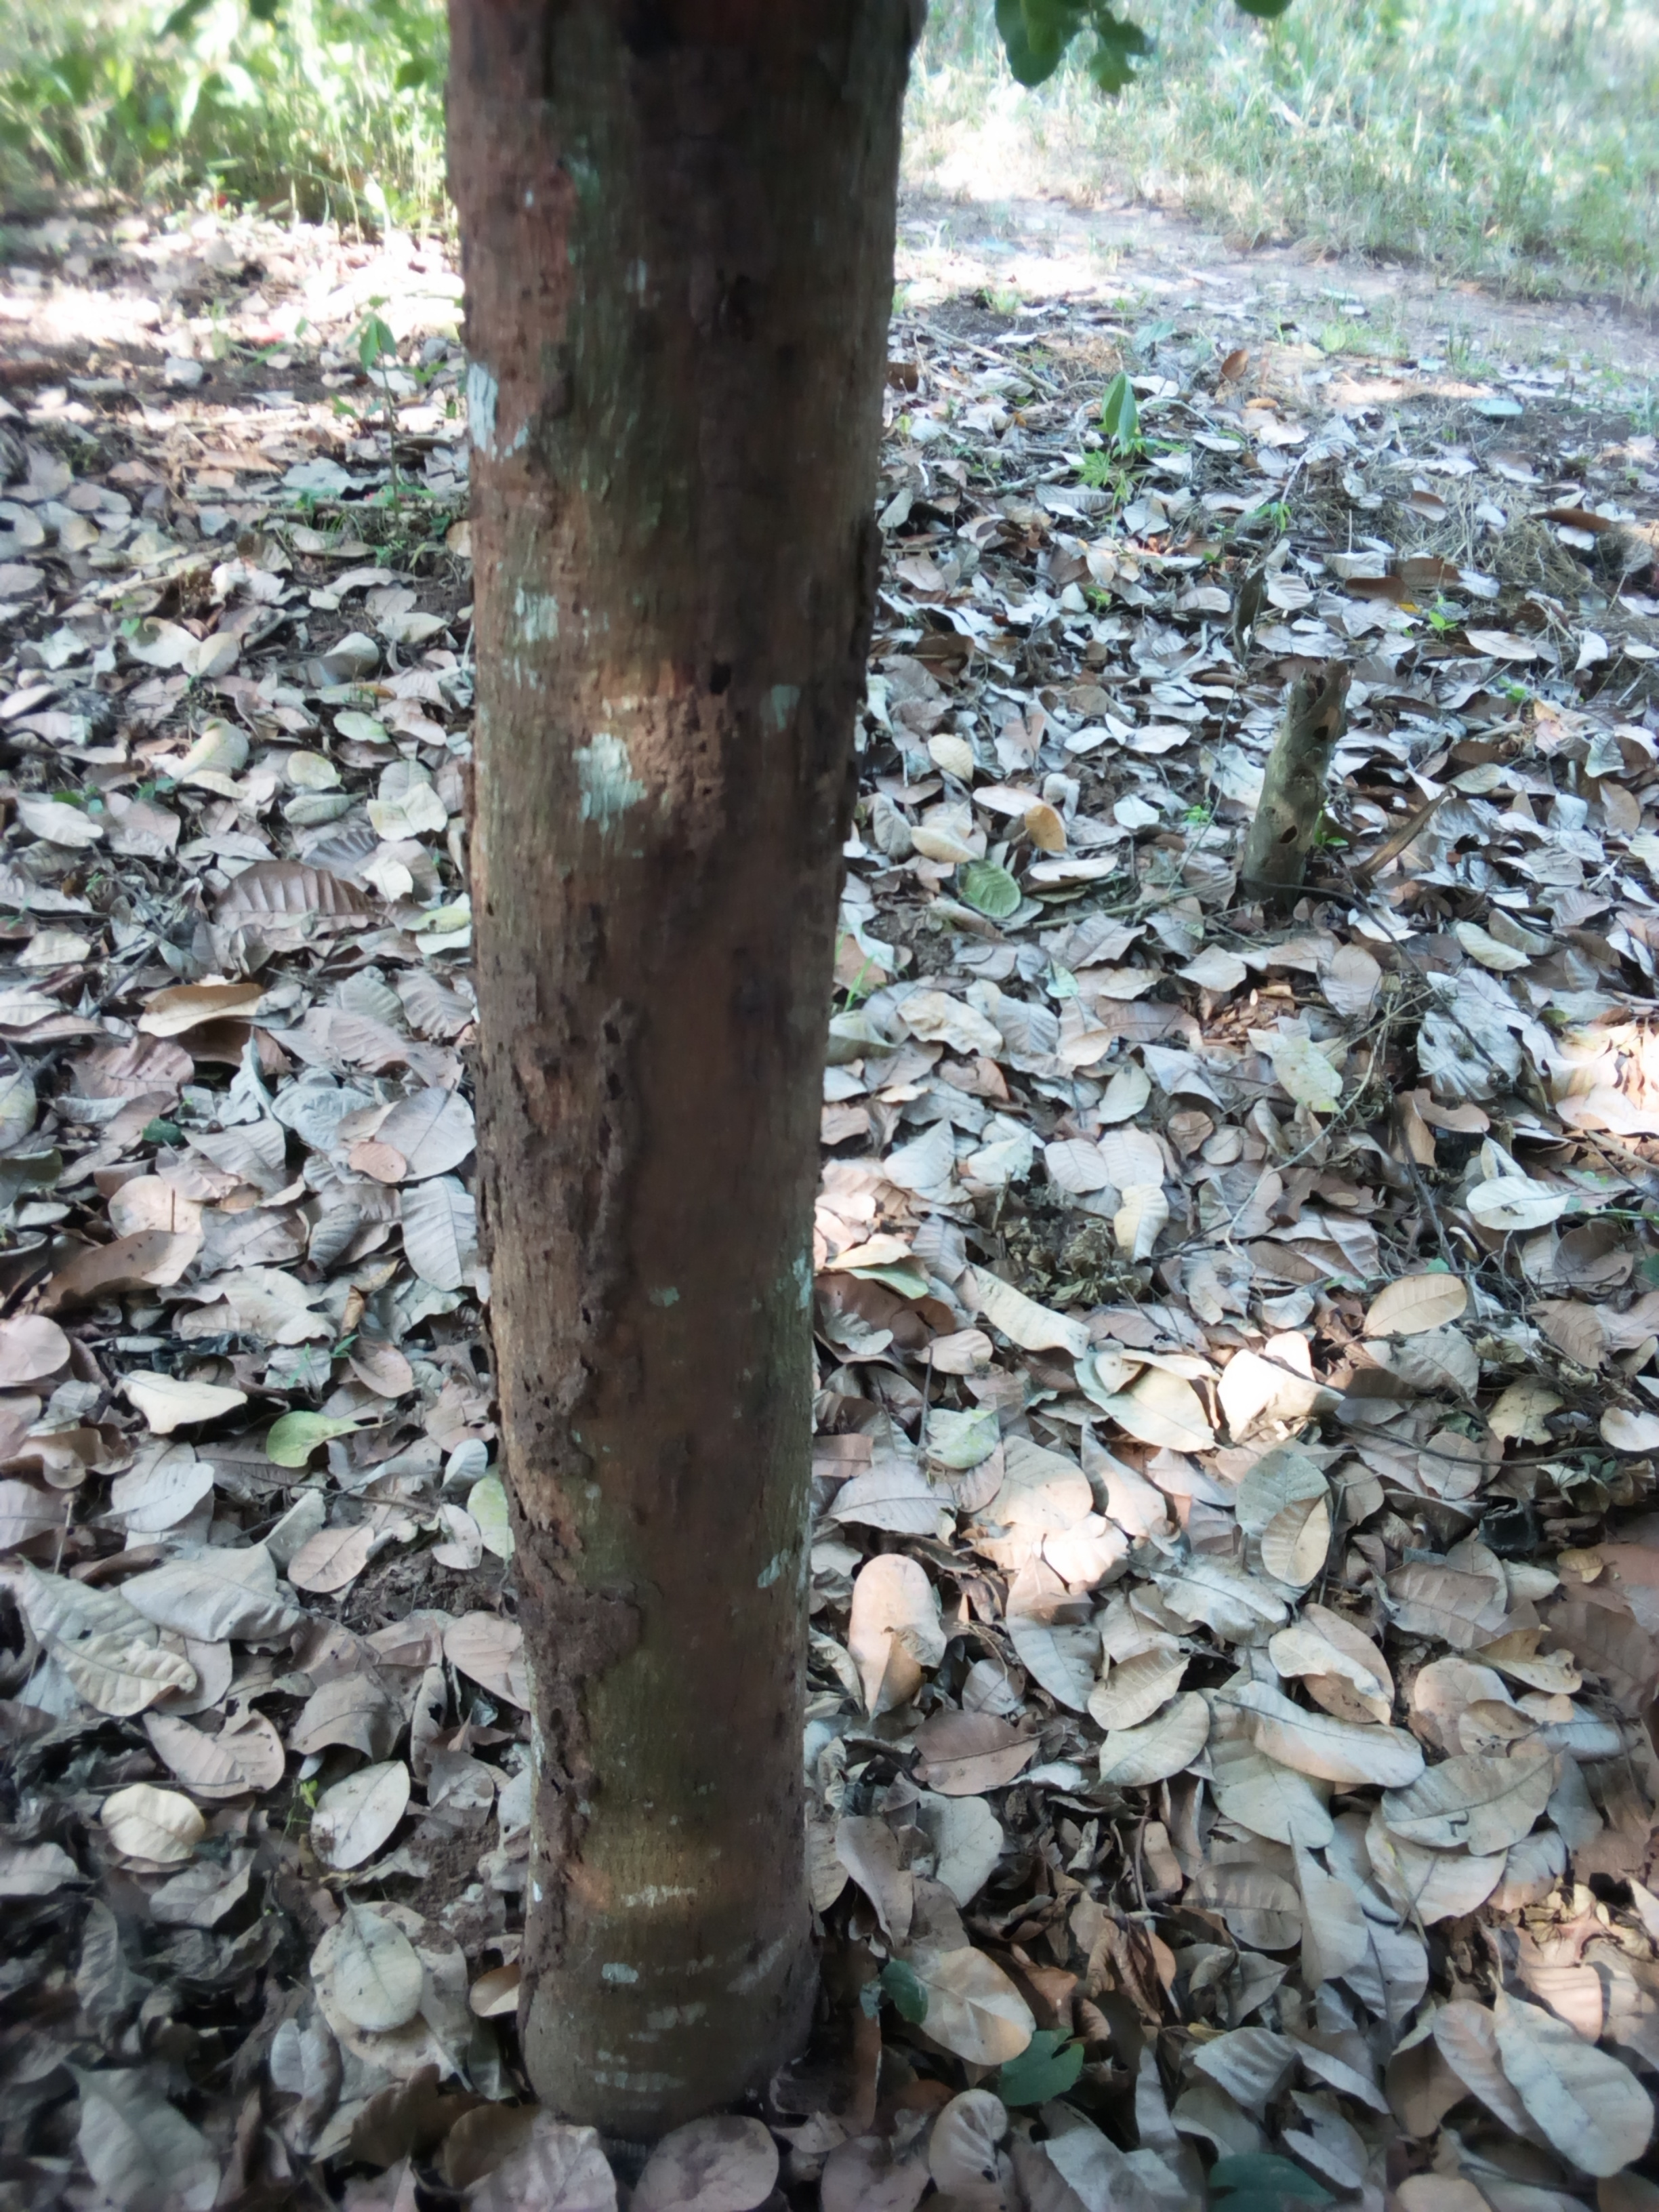Termites: (500, 428, 894, 1949)
